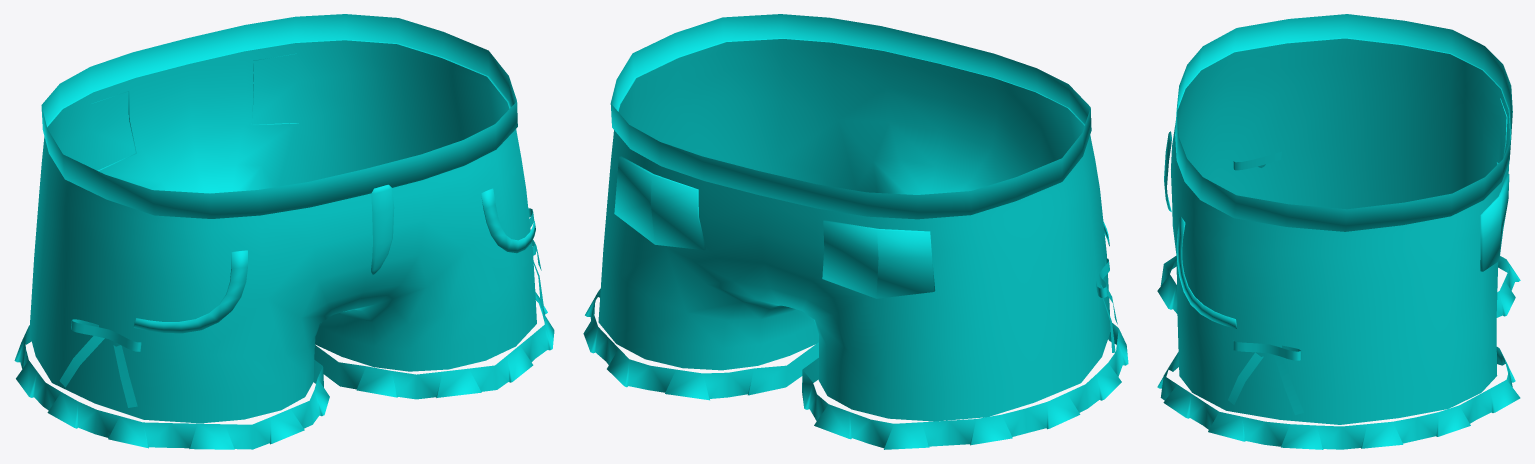
The picture shows the model from 3 angles, left to right: view 1: azimuth 30°, elevation 25°; view 2: azimuth 150°, elevation 25°; view 3: azimuth 270°, elevation 25°; orthographic projection. The views are drawn at different scales.
Parts seen in each view (by area): view 1: P_E; view 2: P_E; view 3: P_E.
Part boxes in pixels (<box>): P_E: <box>14,14,554,449</box>; P_E: <box>583,14,1128,449</box>; P_E: <box>1157,14,1520,449</box>.
Size of the model in its own units: 118 by 57.13 by 81.76.
